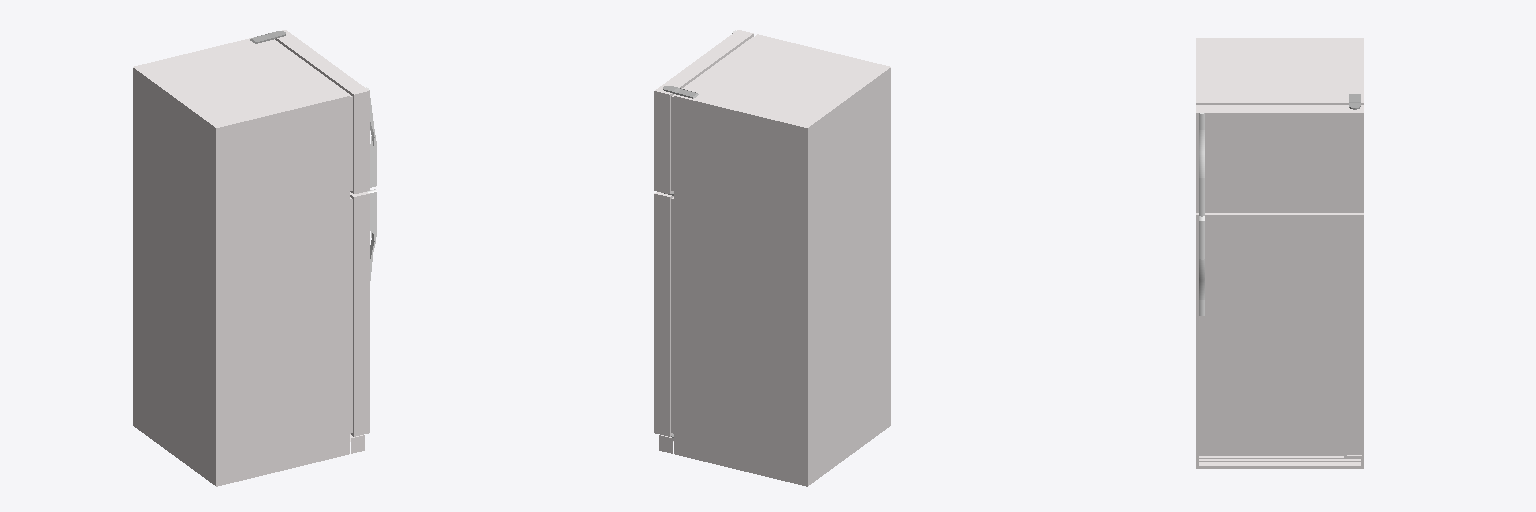
3 renders of one model, left to right at view 1: azimuth 30°, elevation 25°; view 2: azimuth 150°, elevation 25°; view 3: azimuth 270°, elevation 25°, orthographic.
Parts seen in each view (by area): view 1: Mesh62 Group12 Fridge1 Component_6_1 Model, Mesh96 Group13 Door_2 Fridge1 Component_6_1 Model, Mesh57 Group7 Door_1 Fridge1 Component_6_1 Model; view 2: Mesh62 Group12 Fridge1 Component_6_1 Model, Mesh96 Group13 Door_2 Fridge1 Component_6_1 Model, Mesh57 Group7 Door_1 Fridge1 Component_6_1 Model; view 3: Mesh96 Group13 Door_2 Fridge1 Component_6_1 Model, Mesh57 Group7 Door_1 Fridge1 Component_6_1 Model, Mesh62 Group12 Fridge1 Component_6_1 Model, Mesh29 Group3 Fridge1 Component_6_1 Model, Mesh60 Group11 Door_1 Fridge1 Component_6_1 Model, Mesh104 Group19 Door_2 Fridge1 Component_6_1 Model.
Boxes of the visible parts, <box> form: Mesh62 Group12 Fridge1 Component_6_1 Model: <box>133,37,349,486</box>; Mesh96 Group13 Door_2 Fridge1 Component_6_1 Model: <box>350,192,369,436</box>; Mesh57 Group7 Door_1 Fridge1 Component_6_1 Model: <box>274,30,369,193</box>; Mesh62 Group12 Fridge1 Component_6_1 Model: <box>674,34,890,486</box>; Mesh96 Group13 Door_2 Fridge1 Component_6_1 Model: <box>654,192,673,436</box>; Mesh57 Group7 Door_1 Fridge1 Component_6_1 Model: <box>654,30,753,193</box>; Mesh96 Group13 Door_2 Fridge1 Component_6_1 Model: <box>1196,213,1363,454</box>; Mesh57 Group7 Door_1 Fridge1 Component_6_1 Model: <box>1196,105,1363,212</box>; Mesh62 Group12 Fridge1 Component_6_1 Model: <box>1196,38,1363,104</box>; Mesh29 Group3 Fridge1 Component_6_1 Model: <box>1196,455,1363,468</box>; Mesh60 Group11 Door_1 Fridge1 Component_6_1 Model: <box>1199,113,1204,216</box>; Mesh104 Group19 Door_2 Fridge1 Component_6_1 Model: <box>1199,216,1204,315</box>.
Bounding box in the file's own units: 0.7973 × 1.69 × 0.7112.